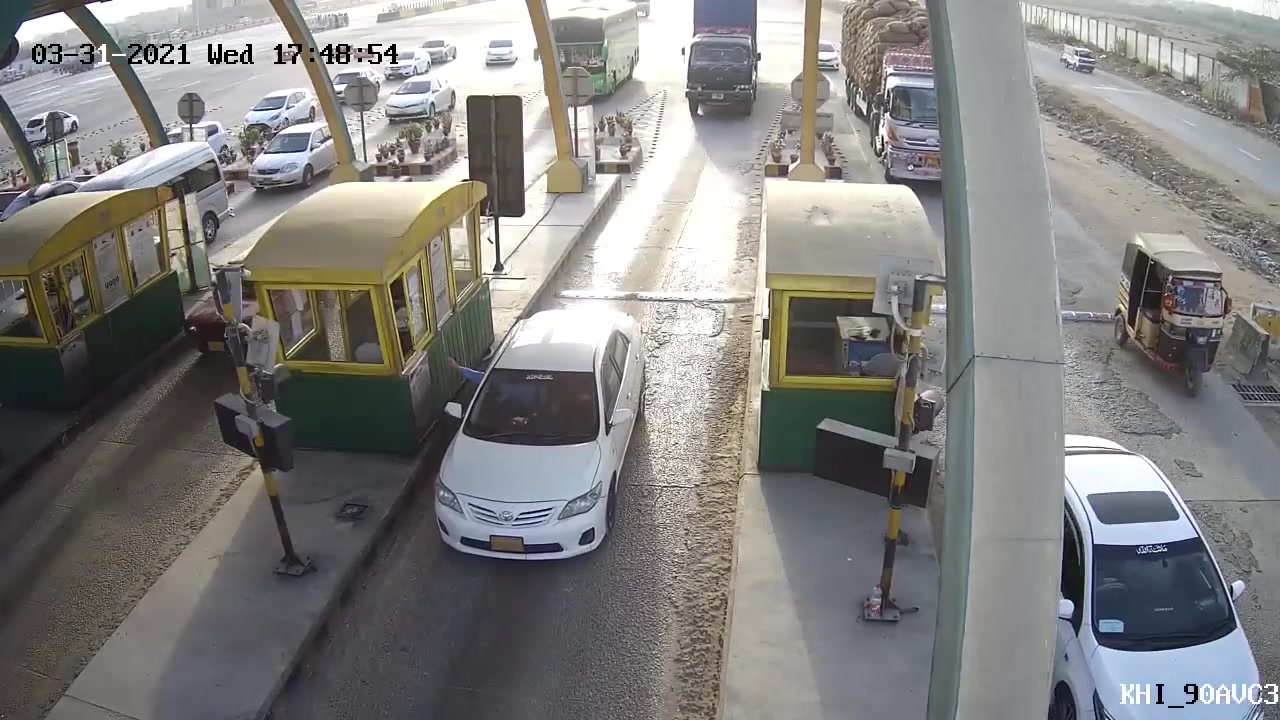F1: (407, 304, 652, 572)
